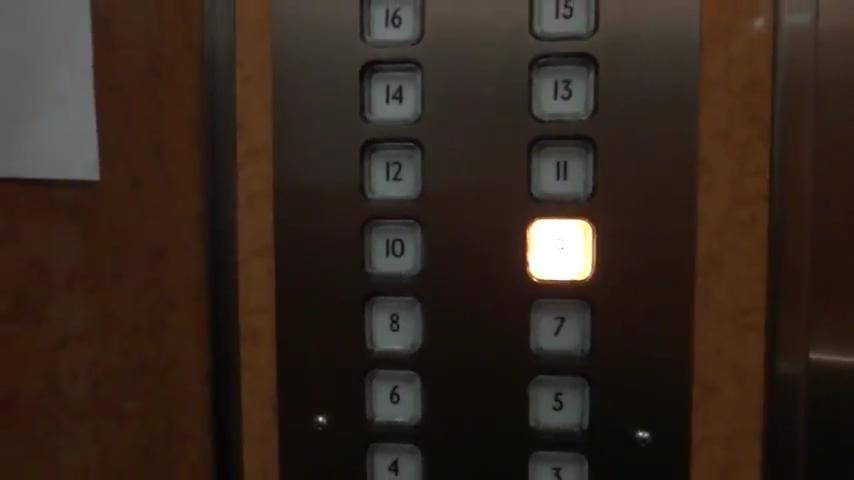10: (361, 216, 424, 276)
11: (526, 137, 597, 200)
12: (361, 139, 424, 201)
13: (529, 53, 598, 124)
14: (359, 58, 423, 125)
16: (358, 1, 426, 45)
4: (364, 443, 423, 480)
5: (527, 375, 590, 432)
6: (363, 369, 424, 425)
7: (529, 299, 592, 357)
8: (363, 293, 424, 354)
blur: (527, 216, 597, 282)
